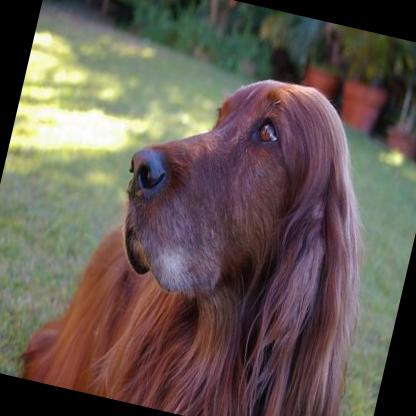Irish_setter: (16, 32, 415, 416)
